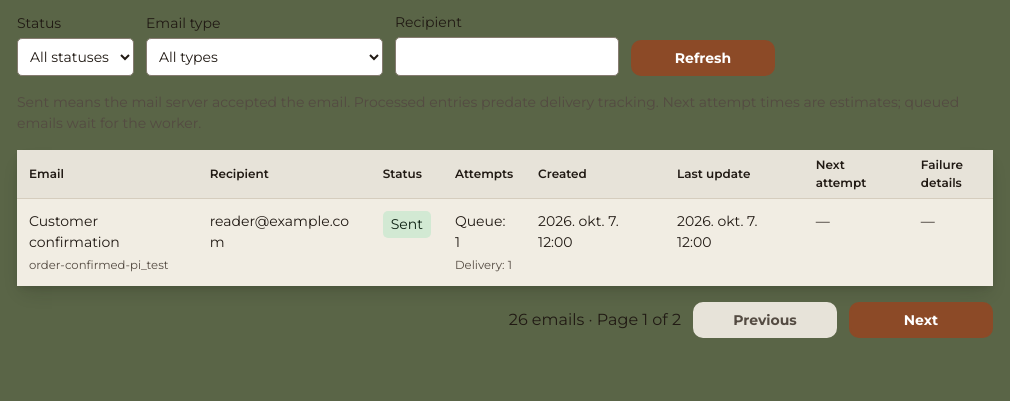
Test case: Order emails › refreshes delivery results and hides stale rows when filters change
This screenshot has width=1010, height=401.
Expected: the text "reader@example.com" is shown, left=198, top=198, right=371, bottom=286
Click the button "Refresh" at [703, 58], box left=631, top=40, right=775, bottom=76
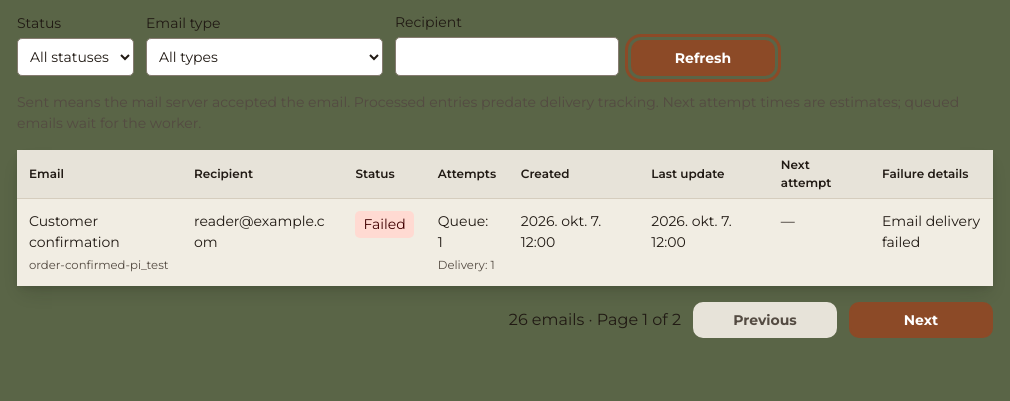
Expected: the text "Email delivery failed" is shown, left=870, top=198, right=993, bottom=286
Expected: the text "Failed" is shown, left=356, top=210, right=414, bottom=238
Select "Skipped" in the dropdown labelled "Status" at [76, 57], box left=17, top=38, right=134, bottom=76
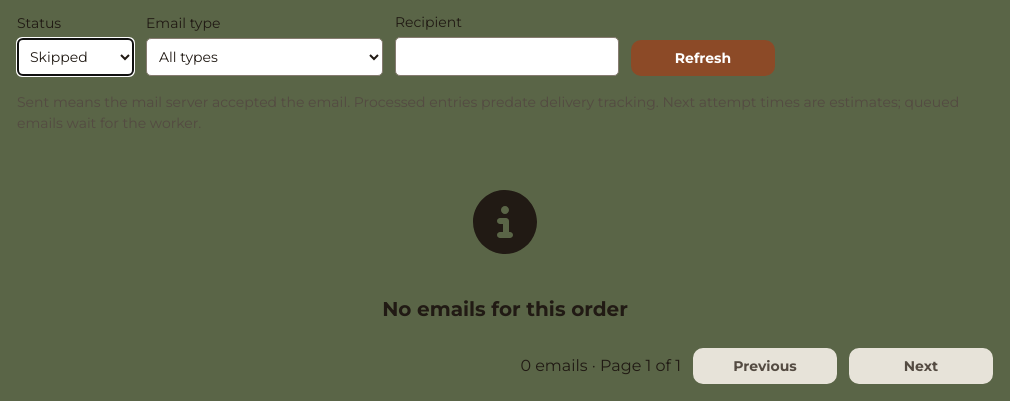
Expected: the text "No emails for this order" is shown, left=382, top=294, right=628, bottom=324
Expected: the text "reader@example.com" is gone
Expected: the button "Next" is disabled, left=849, top=348, right=993, bottom=384
